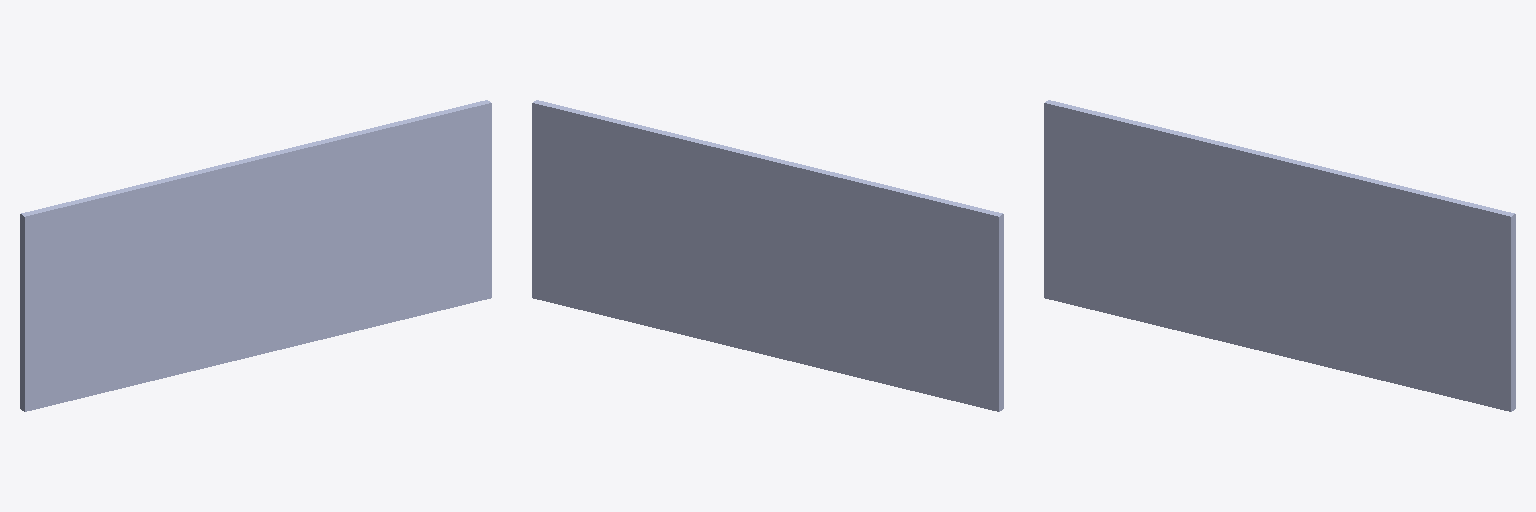
URDF robot description (ground):
<?xml version="1.0" encoding="utf-8"?>
<!-- This URDF was automatically created by SolidWorks to URDF Exporter! Originally created by [author] ([email redacted]) 
     Commit Version: 1.5.1-0-g916b5db  Build Version: 1.5.7152.31018
     For more information, please see http://wiki.ros.org/sw_urdf_exporter -->
<robot
  name="ground">
  <link
    name="ground2">
    <inertial>
      <origin
        xyz="0.31788 -0.005 0.057574"
        rpy="0 0 0" />
      <mass
        value="1.69" />
      <inertia
        ixx="0.0095344"
        ixy="2.2448E-14"
        ixz="3.4786E-13"
        iyy="0.069022"
        iyz="8.42521794460003E-15"
        izz="0.059516" />
    </inertial>
    <visual>
      <origin
        xyz="0 0 0"
        rpy="1.5707963267949 0 0" />
      <geometry>
        <mesh
          filename="package://gazebo_ros/model/ground2/meshes/ground2.STL" />
      </geometry>
      <material
        name="">
        <color
          rgba="0.79216 0.81961 0.93333 1" />
        <texture
          filename="package://gazebo_ros/model/ground2/textures/" />
      </material>
    </visual>
    <collision>
      <origin
        xyz="0 0 0"
        rpy="1.5707963267949 0 0" />
      <geometry>
        <mesh
          filename="package://gazebo_ros/model/ground2/meshes/ground2.STL" />
      </geometry>
    </collision>
  </link>
</robot>

--- Facts derived from the render (not from the file) ---
3 views of the same robot in one strip: view 1: azimuth 30°, elevation 25°; view 2: azimuth 150°, elevation 25°; view 3: azimuth 330°, elevation 25° (orthographic).
Robot: ground — 1 links, 0 joints (none); root link ground2; default pose: all joints at 0.
Visible links, largest first — view 1: ground2; view 2: ground2; view 3: ground2.
Link boxes in pixels (left/top/right/bottom): ground2: left=20, top=100, right=491, bottom=411; ground2: left=532, top=100, right=1003, bottom=411; ground2: left=1044, top=100, right=1515, bottom=411.
Size in the robot's own frame: 0.65 by 0.01 by 0.26 metres.
Meshes: 1 distinct files referenced, 1 mesh visuals loaded (1 binary STL).